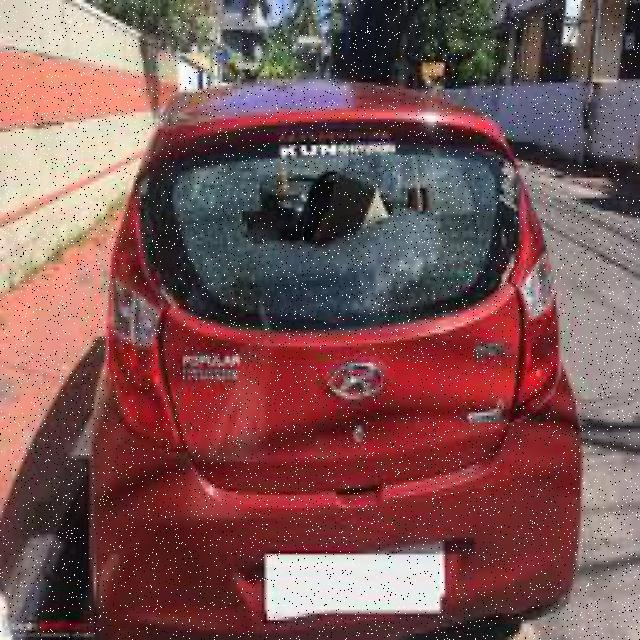Rear-windscreen-Damage: (121, 119, 544, 390)
